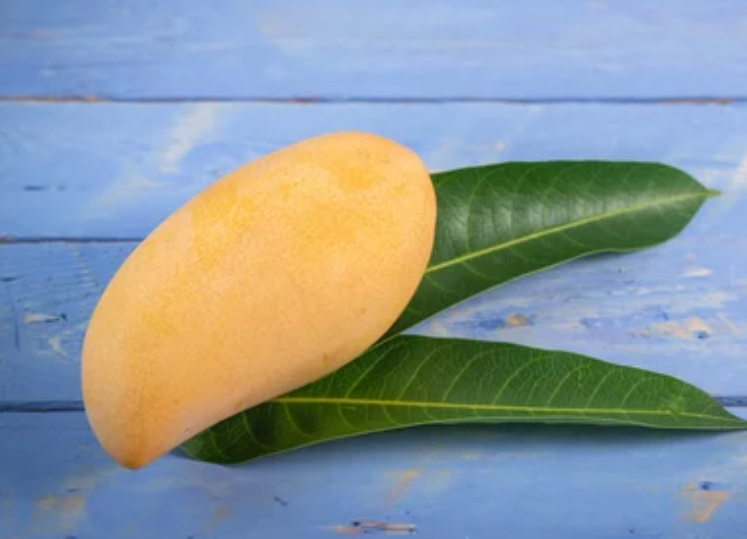mango: (80, 128, 439, 469)
